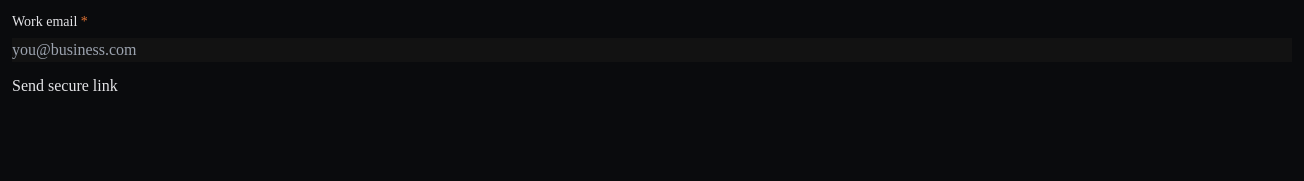
Test: AuthForm Magic Link flow › shows safe rate-limit copy
This screenshot has width=1304, height=181.
Type "jane@example.com" into the field labelled "Work email *" at (652, 50), box [12, 38, 1292, 62]
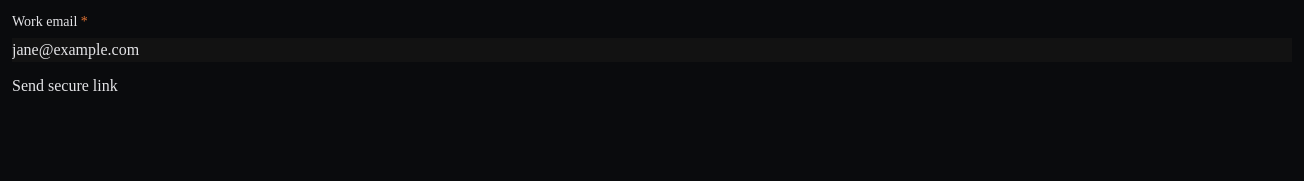
Click the button "Send secure link" at (65, 86), box [12, 74, 118, 98]
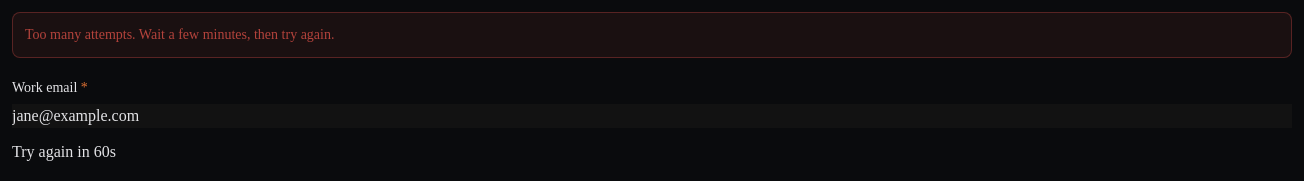
Check: the text "Too many attempts. Wait a few minutes, then try again." is shown, box [12, 12, 1292, 58]
Check: the button "Try again in 60s" is disabled, box [12, 140, 116, 164]
